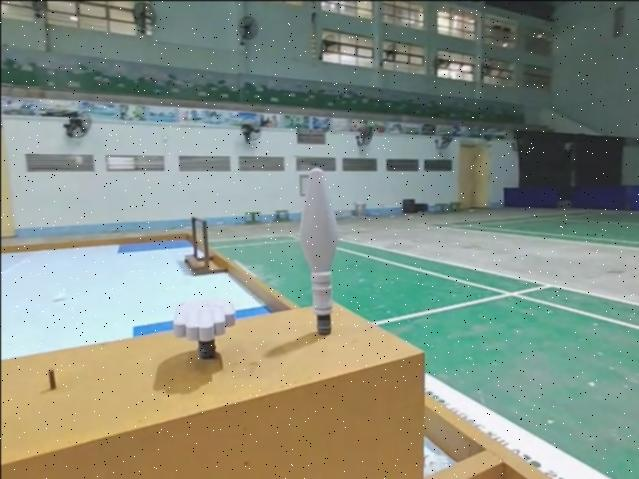Hand: (170, 295, 237, 361)
Sph: (297, 164, 343, 339)
